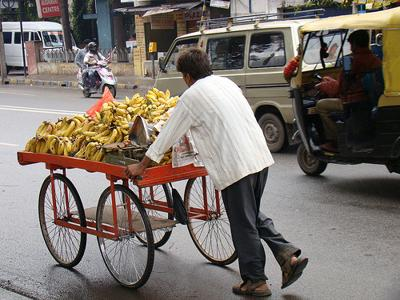person: (123, 50, 310, 298)
